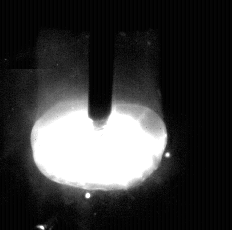arame: (88, 0, 114, 121)
poca: (29, 0, 168, 230)
